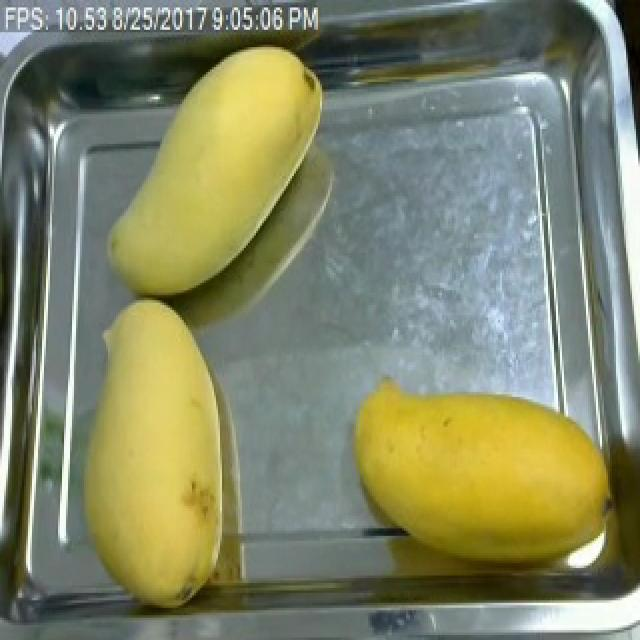fruit: (60, 288, 264, 622), (94, 37, 336, 313), (338, 377, 628, 590)
